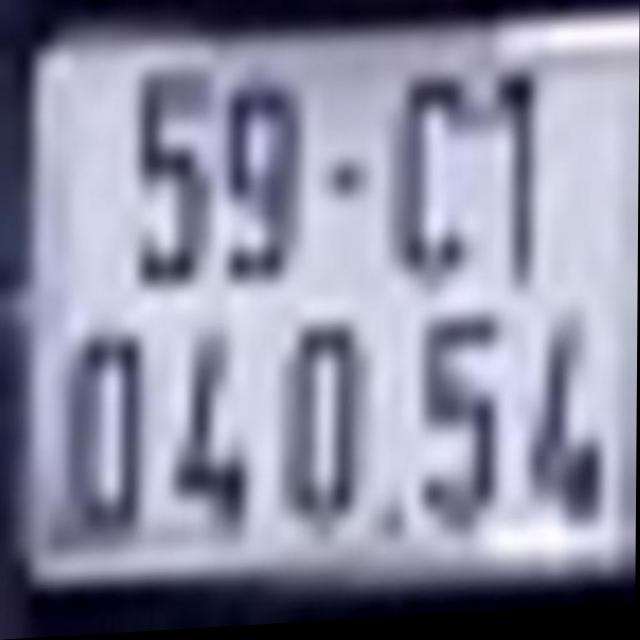0: (282, 317, 365, 543), (60, 317, 145, 536)
1: (486, 60, 550, 302)
4: (524, 305, 616, 548), (176, 321, 251, 544)
5: (403, 313, 503, 542), (134, 64, 212, 287)
9: (225, 70, 304, 292)
C: (391, 61, 470, 302)
